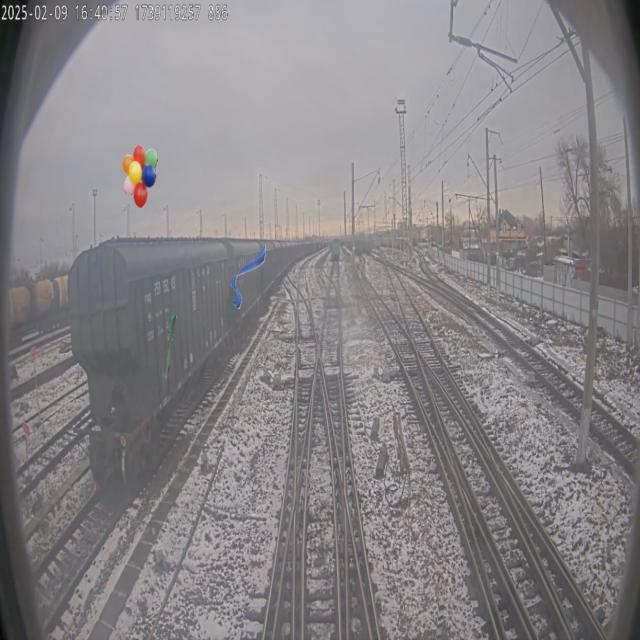balloon: (122, 144, 158, 208)
floating object: (231, 244, 266, 308), (164, 314, 177, 378)
